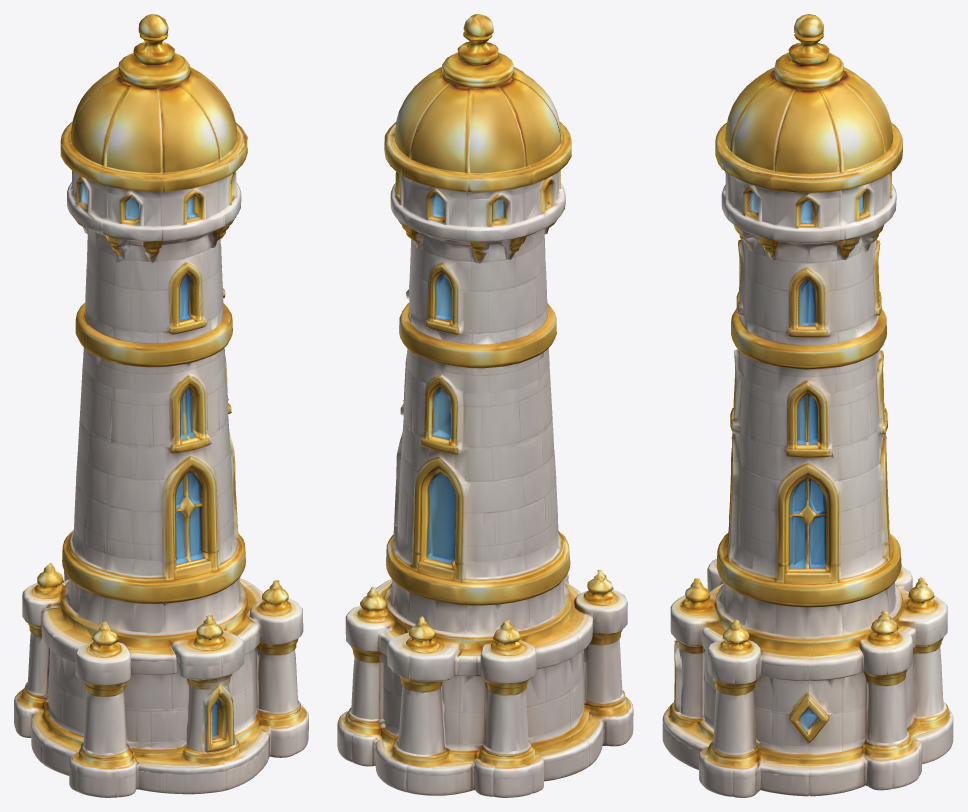
File: HaloPart_CathTowerB_HD_src.glb
The picture shows the model from 3 angles, left to right: view 1: azimuth 30°, elevation 25°; view 2: azimuth 150°, elevation 25°; view 3: azimuth 270°, elevation 25°; orthographic projection.
Parts seen in each view (by area): view 1: tripo_node_bff111fa-8a70-4f7d-9cac-58d2d2899f01; view 2: tripo_node_bff111fa-8a70-4f7d-9cac-58d2d2899f01; view 3: tripo_node_bff111fa-8a70-4f7d-9cac-58d2d2899f01.
Part boxes in pixels (bbox=[...]): tripo_node_bff111fa-8a70-4f7d-9cac-58d2d2899f01: bbox=[14, 14, 308, 797]; tripo_node_bff111fa-8a70-4f7d-9cac-58d2d2899f01: bbox=[337, 14, 633, 797]; tripo_node_bff111fa-8a70-4f7d-9cac-58d2d2899f01: bbox=[662, 14, 953, 797].
Bounding box in the file's own units: 0.3283 × 0.979 × 0.3551.
1 material, 1 textured.
